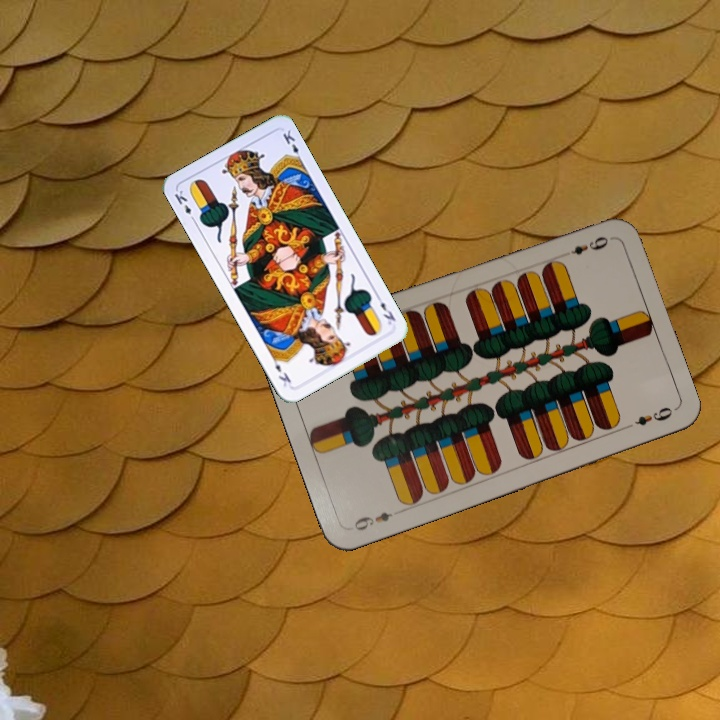E9: (566, 232, 611, 258), (349, 508, 395, 533)
EK: (170, 186, 198, 225), (372, 291, 398, 328)
